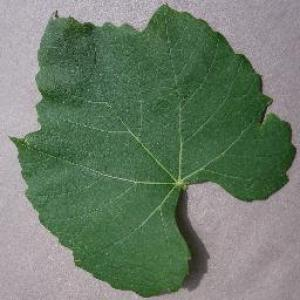Folha: (8, 2, 297, 298)
